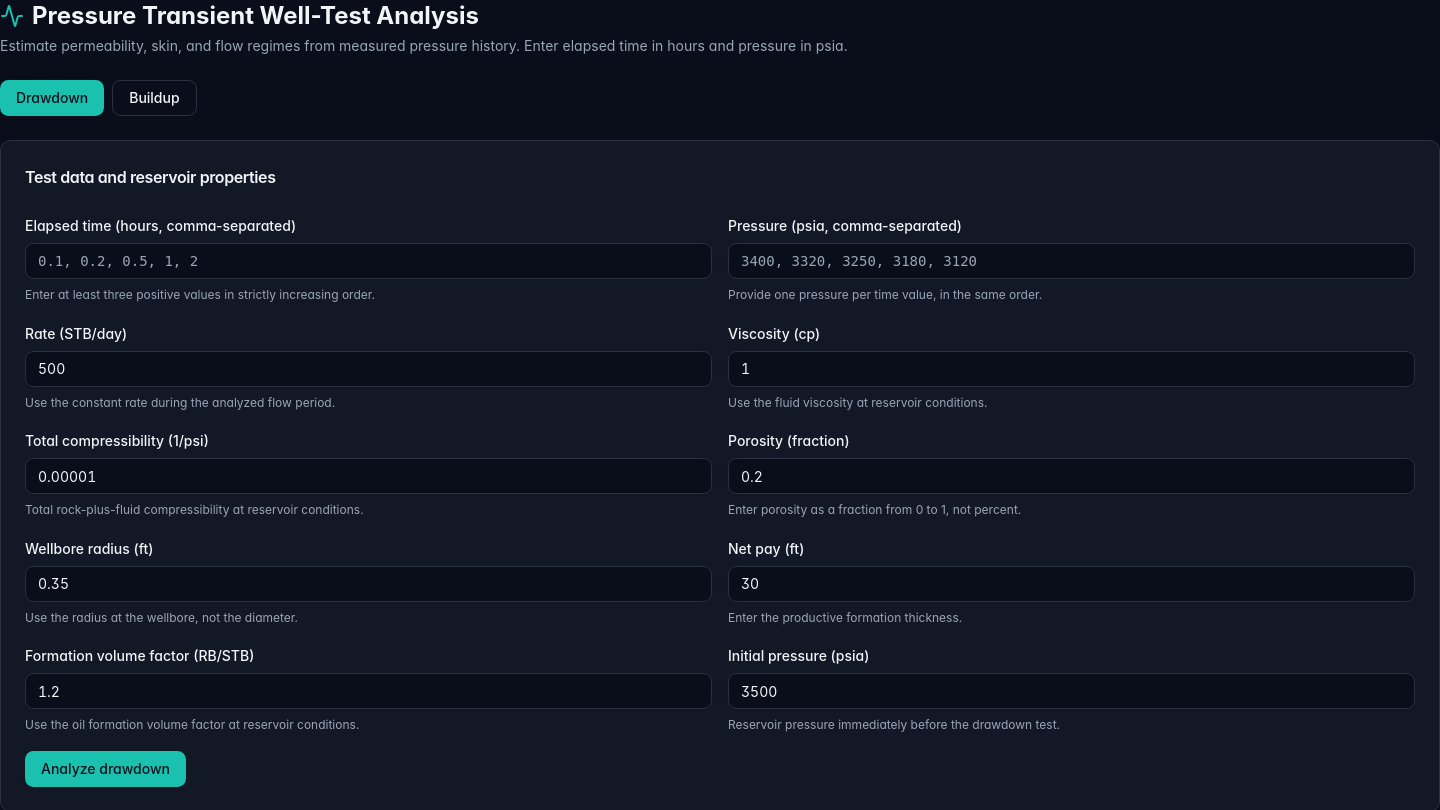
it: WellTestAnalysisView › submits drawdown data with the backend schema and displays results
This screenshot has width=1440, height=810.
Type "0.1, 0.2, 0.5" into the field labelled "Elapsed time (hours, comma-separated)" at (368, 261), box [25,243,712,279]
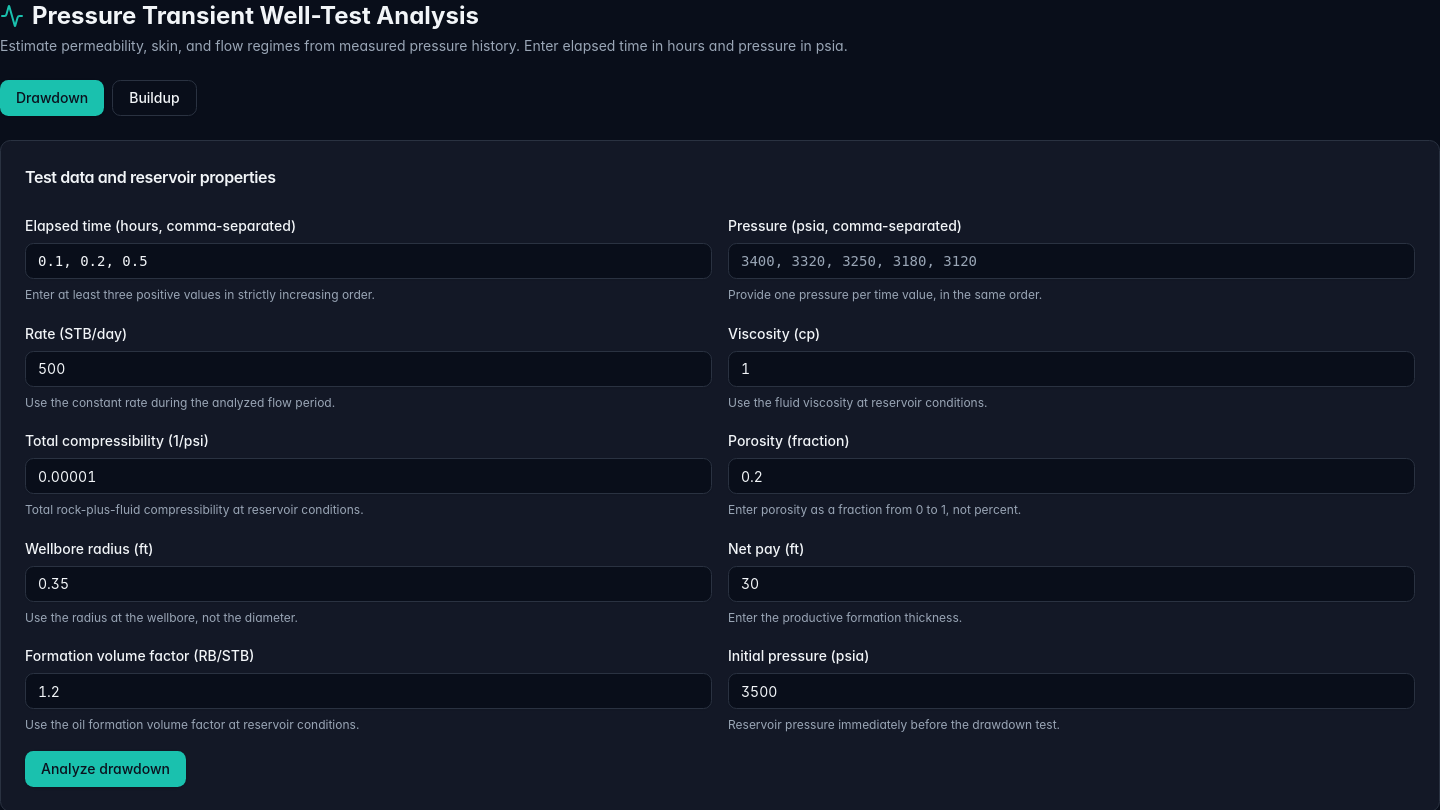
Type "3400, 3320, 3250" into the field labelled "Pressure (psia, comma-separated)" at (1072, 261), box [728,243,1415,279]
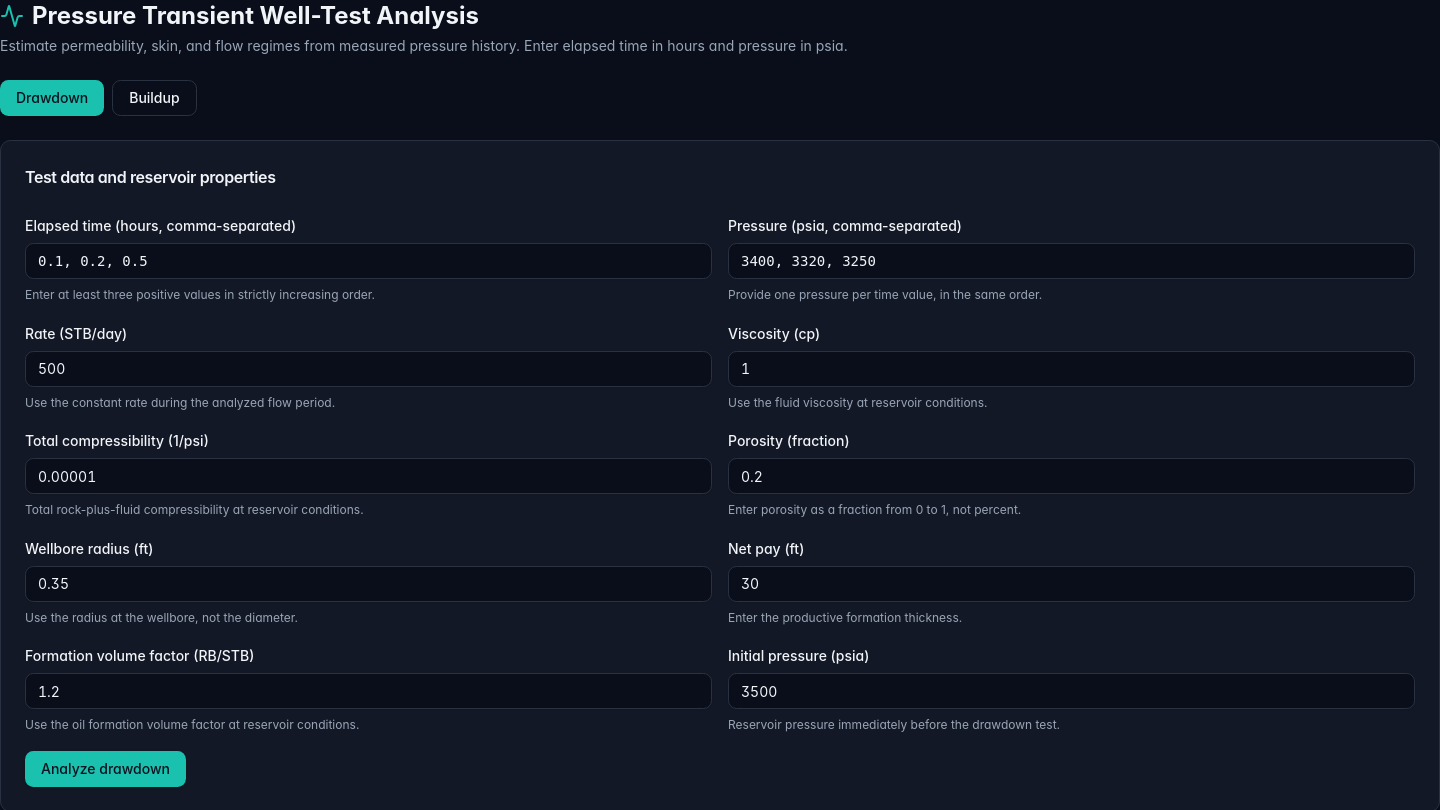
Click the button "Analyze drawdown" at (106, 768), box [25,750,186,786]
(page scrolled)
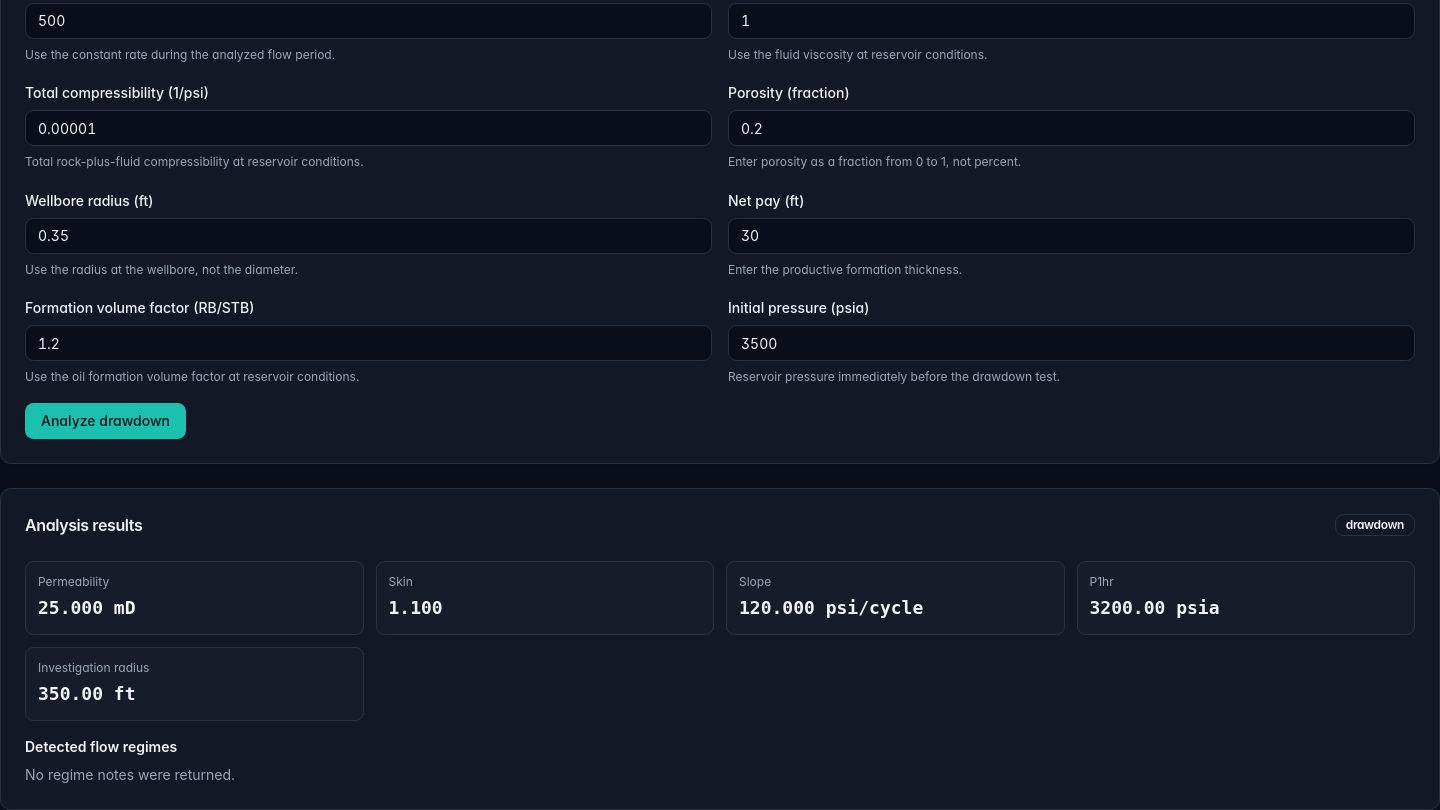
expect the text "25.000 mD" is shown: met, box [38,596,136,618]
